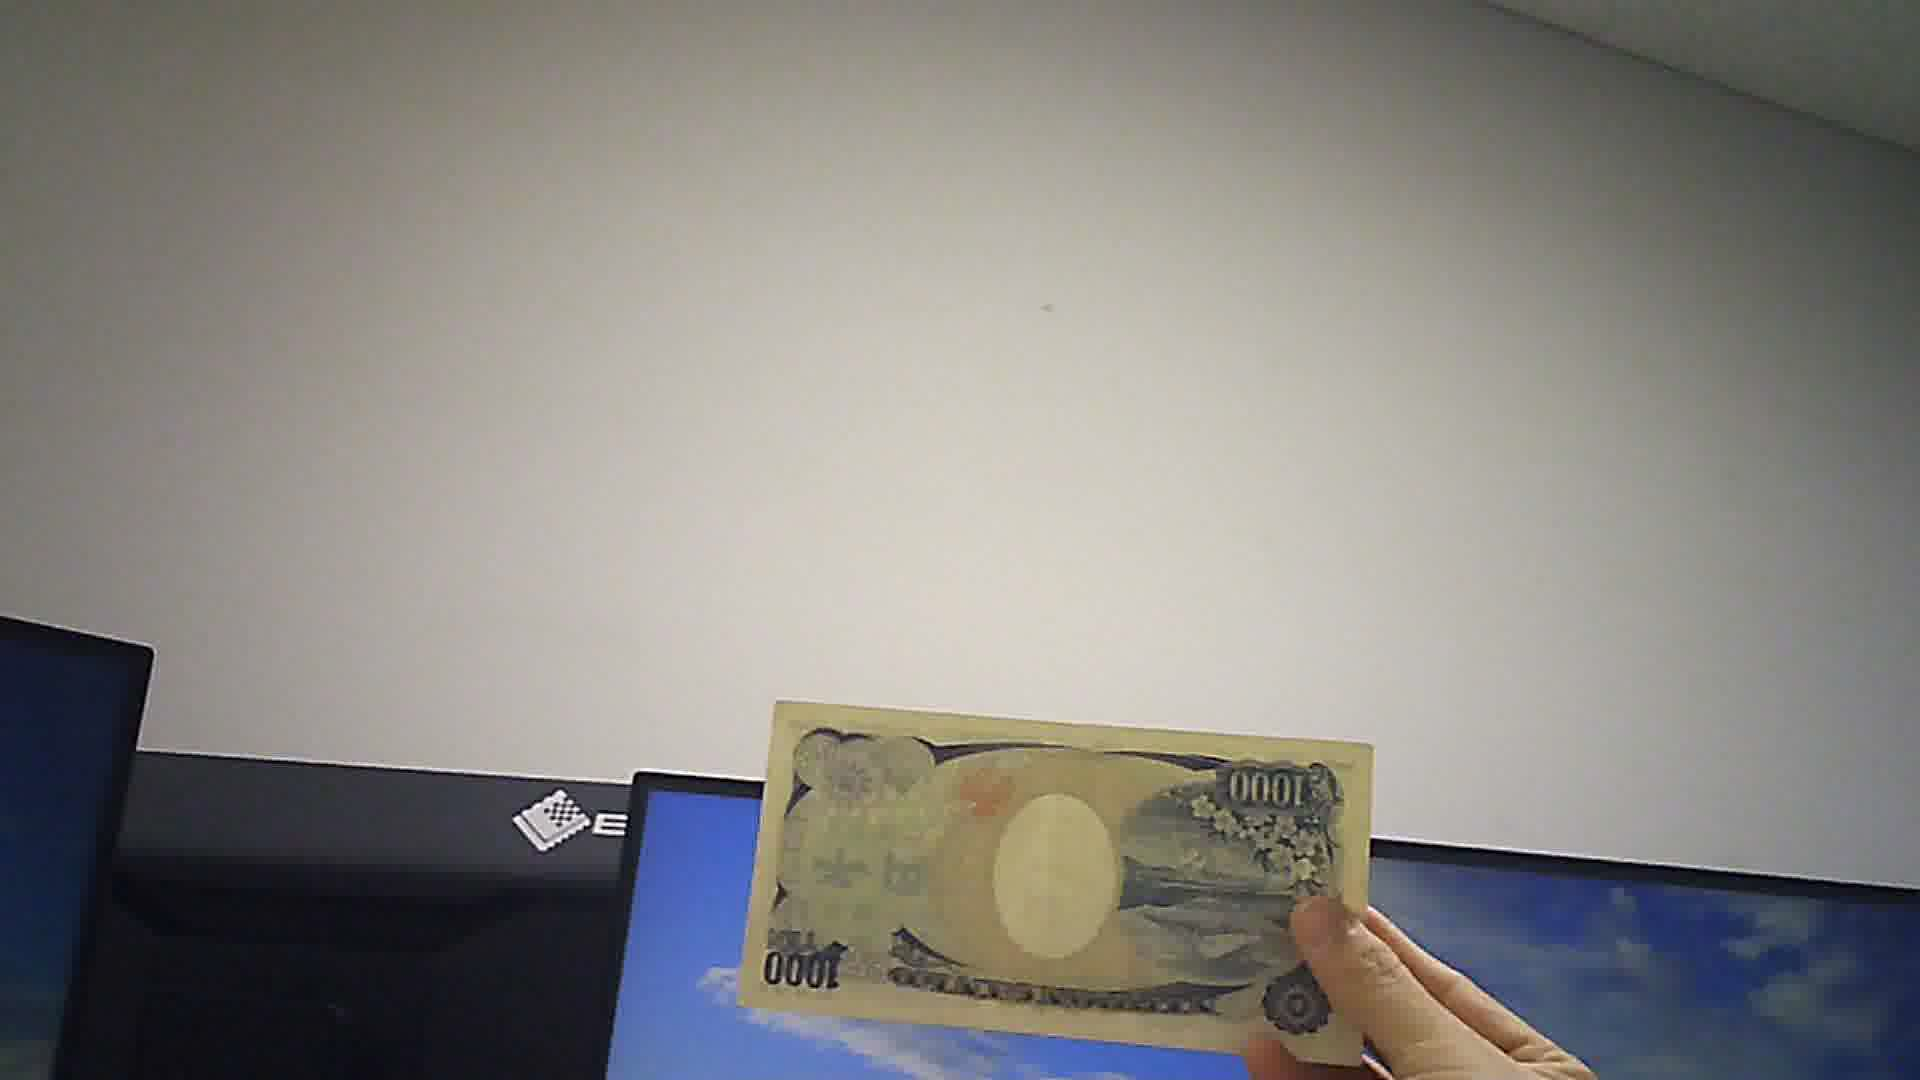1,000 Yen: (744, 687, 1393, 1075)
